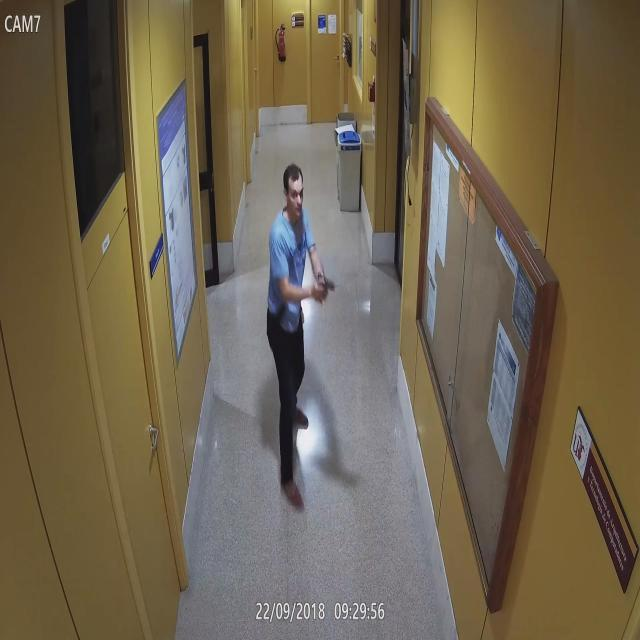weapon: (312, 272, 337, 306)
